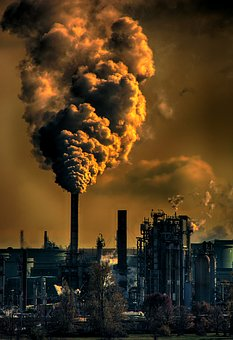dust: (4, 6, 156, 199)
